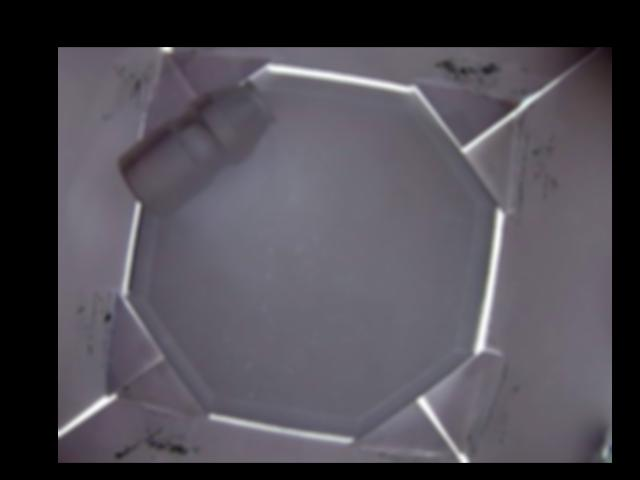Bottle: (118, 76, 277, 220)
